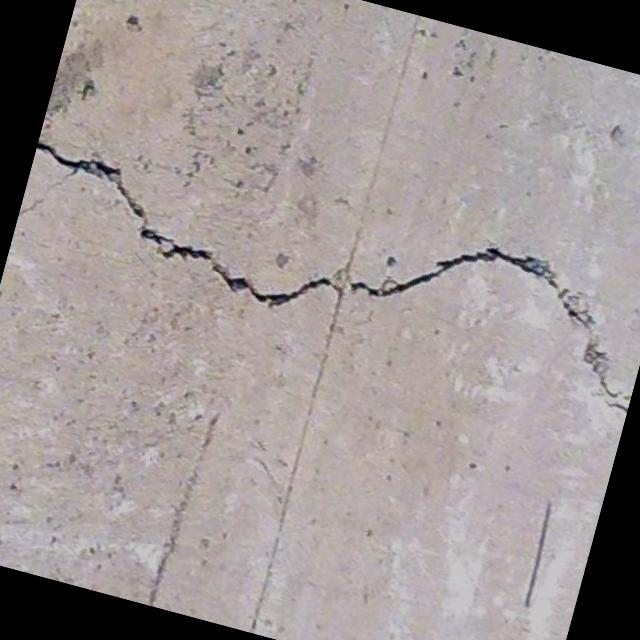crack: (8, 124, 640, 420)
